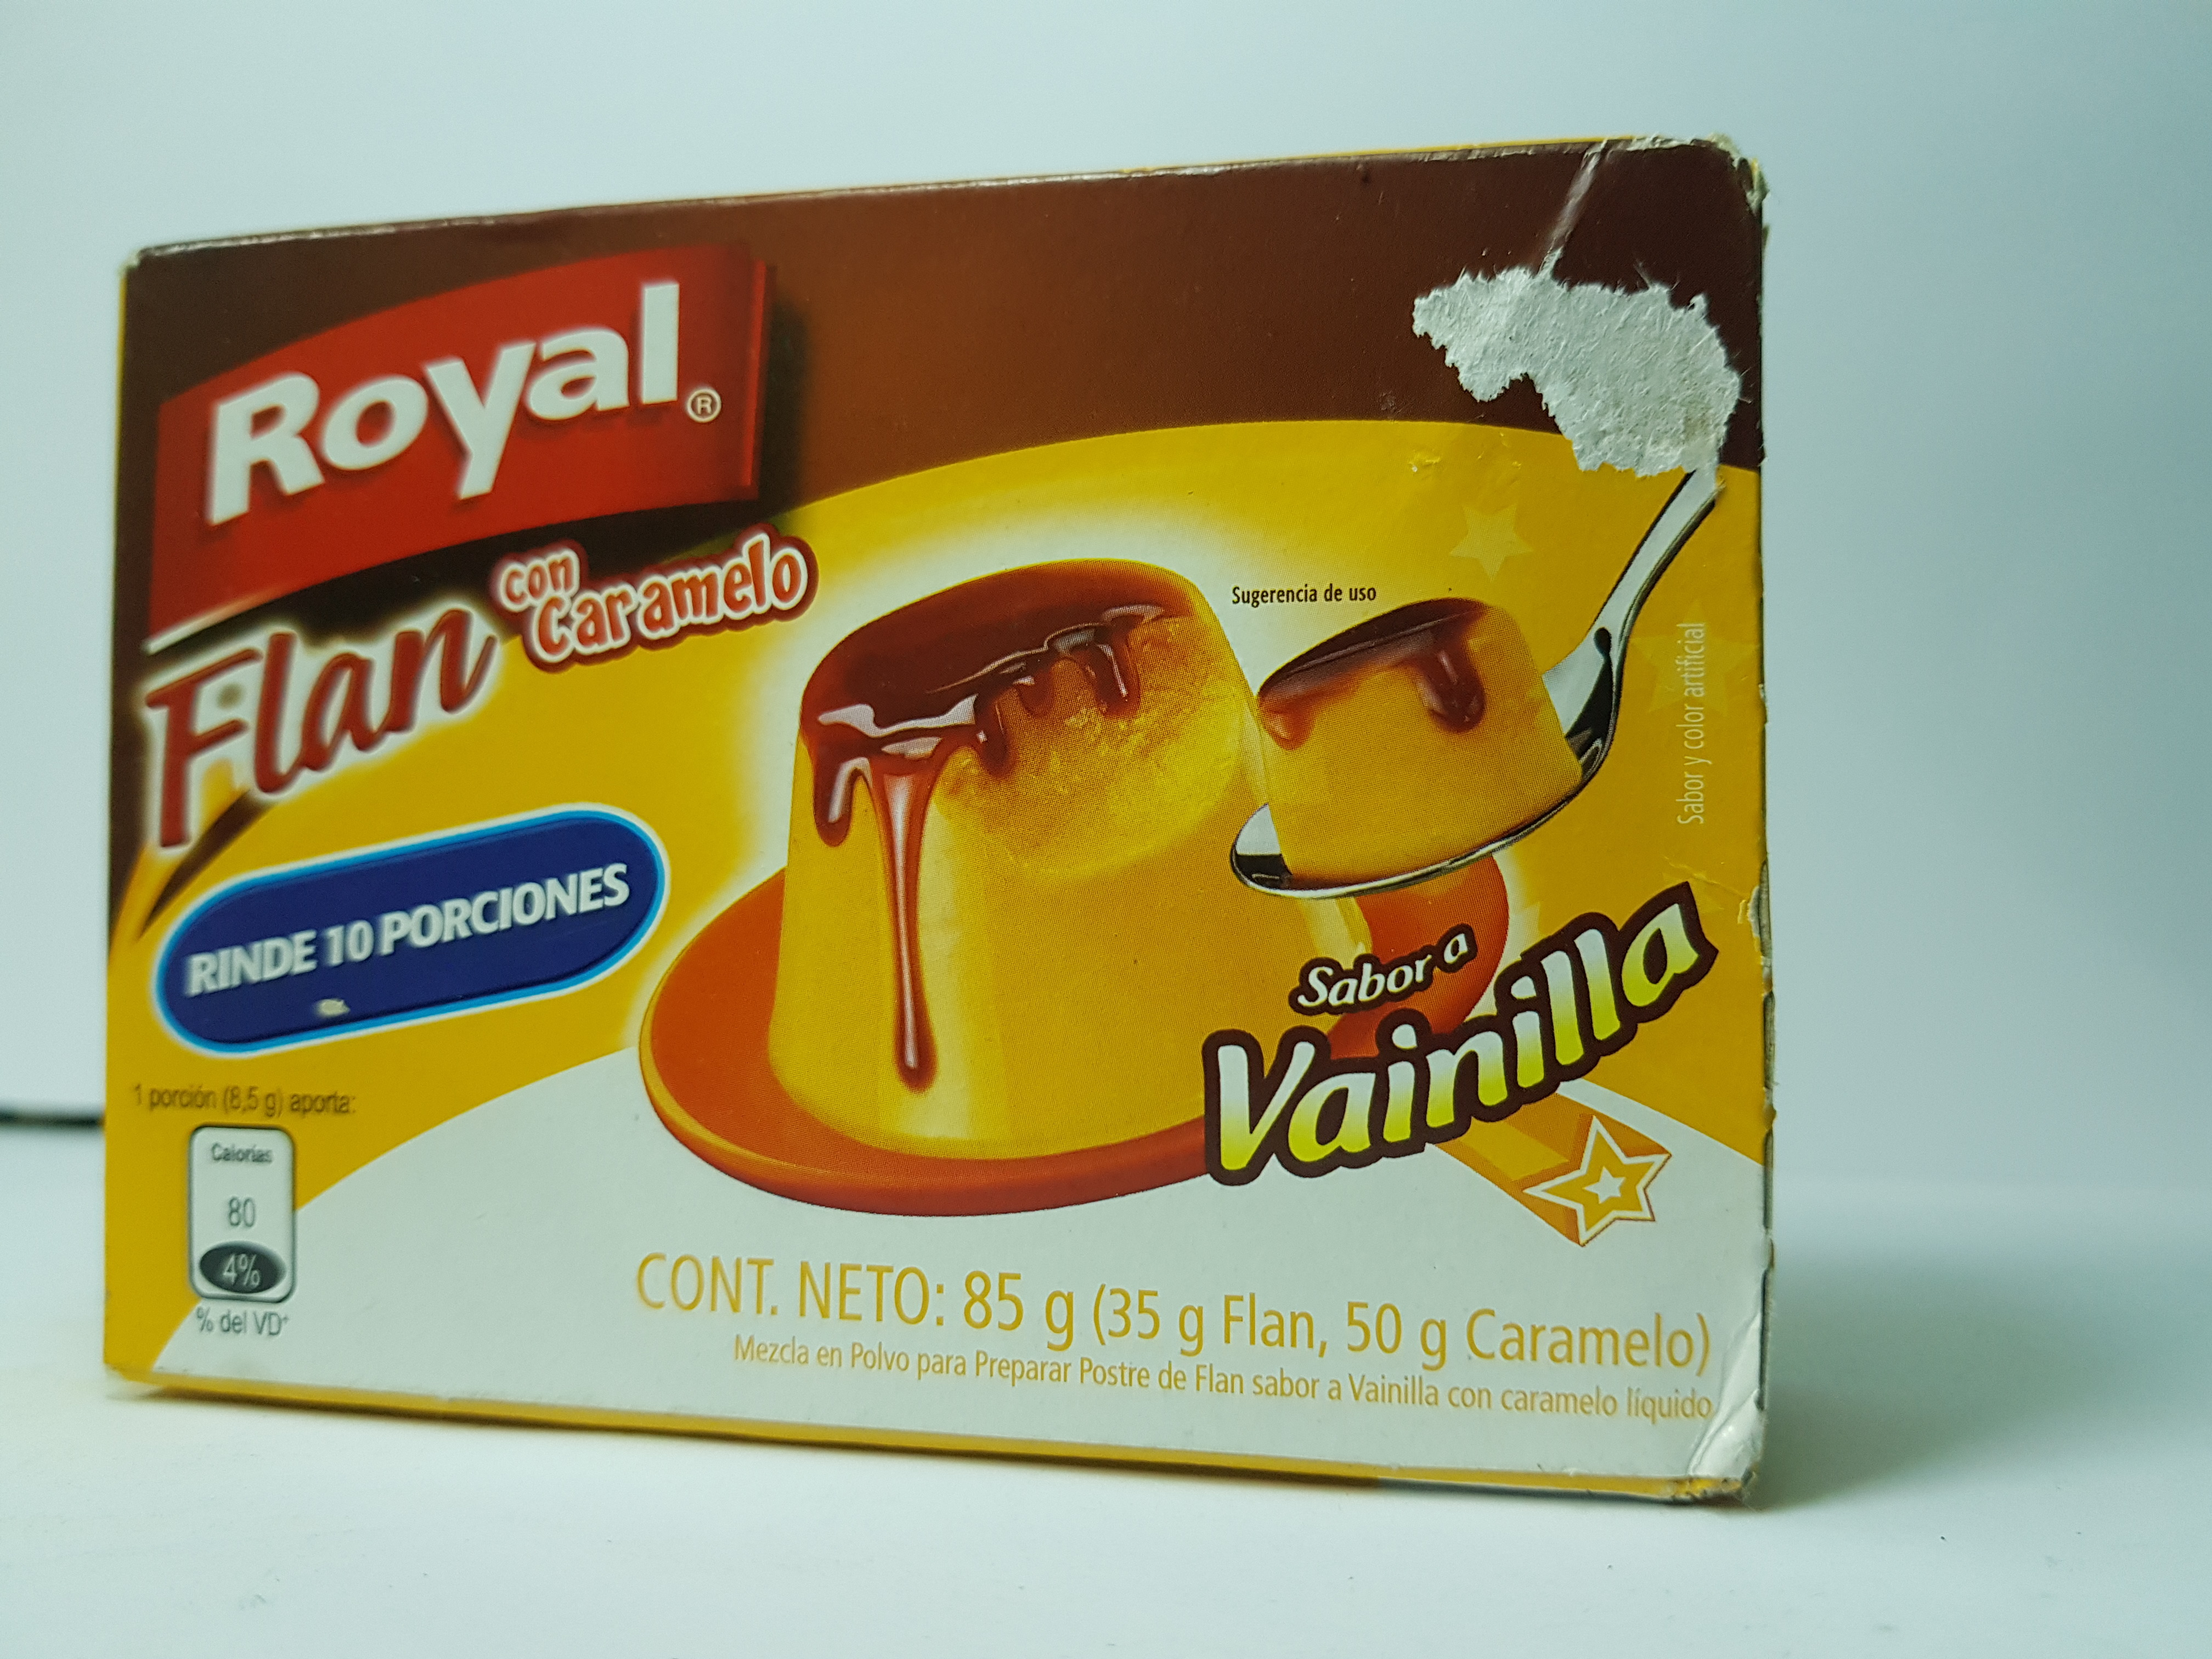flan: (85, 122, 1829, 1532)
